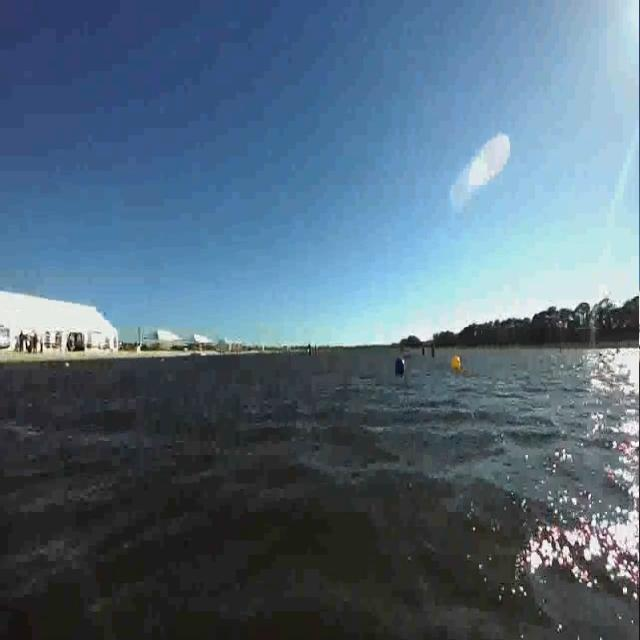blue-buoy: (394, 355, 405, 375)
yellow-buoy: (449, 354, 460, 372)
